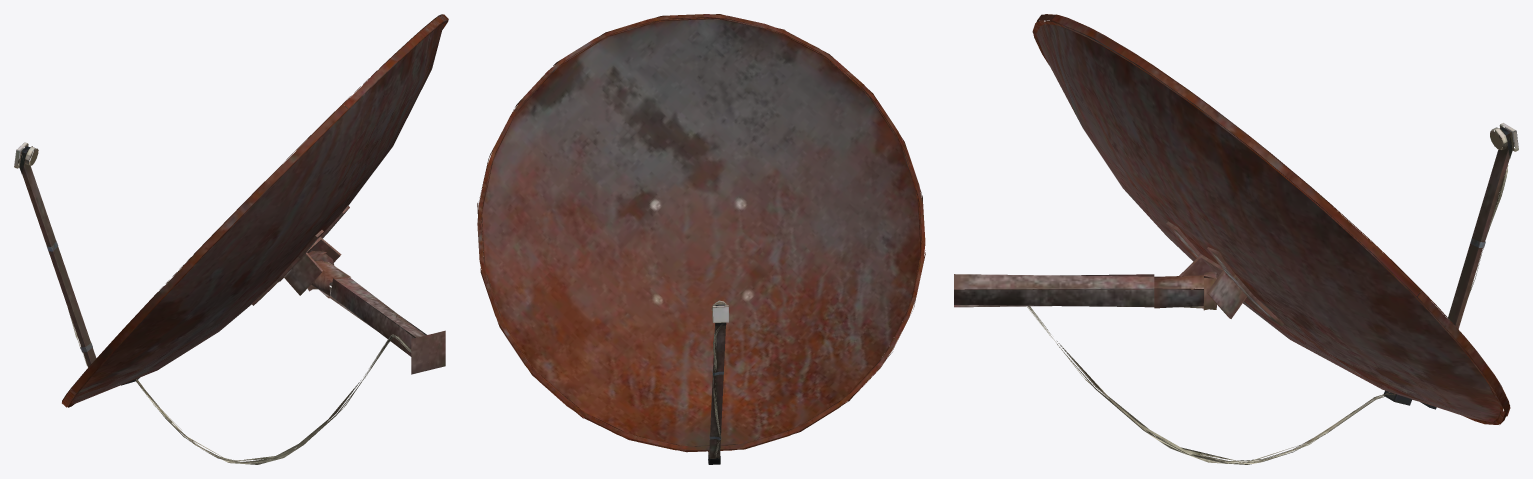
The model's file is parabola.glb.
The picture shows the model from 3 angles, left to right: view 1: azimuth 30°, elevation 25°; view 2: azimuth 150°, elevation 25°; view 3: azimuth 270°, elevation 25°; orthographic projection. The views are drawn at different scales.
Visible parts, largest first — view 1: DIsh, Support; view 2: DIsh; view 3: DIsh, Support.
Boxes of the visible parts, x1=… form: DIsh: x1=14, y1=14, x2=448, y2=464; Support: x1=307, y1=250, x2=445, y2=374; DIsh: x1=477, y1=14, x2=925, y2=464; DIsh: x1=1026, y1=14, x2=1518, y2=464; Support: x1=954, y1=271, x2=1216, y2=310.
Size of the model in its own units: 182 by 176 by 186.
Materials: 1 (1 with a texture image).
